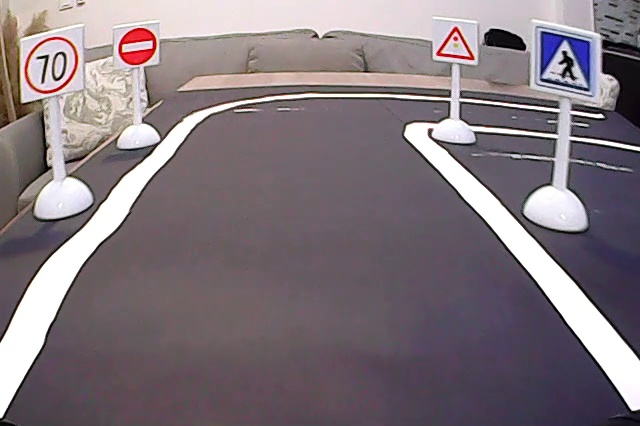do not enter: (114, 25, 160, 70)
pedestrian crossing: (534, 24, 596, 95)
red light: (432, 22, 480, 64)
speed limit 70: (23, 33, 81, 97)
